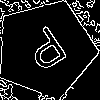P: (21, 24, 76, 81)
